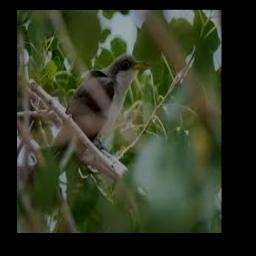Cuckoo: (51, 53, 150, 176)
